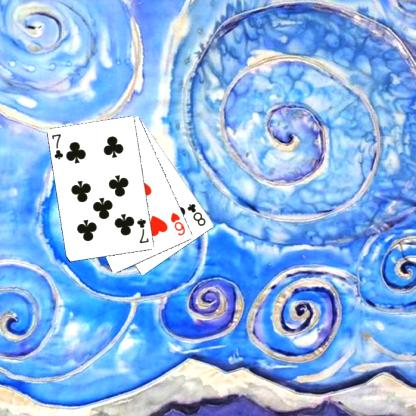6H: (168, 210, 187, 237)
7C: (135, 216, 150, 245), (50, 131, 64, 161)
8C: (185, 201, 207, 228)
